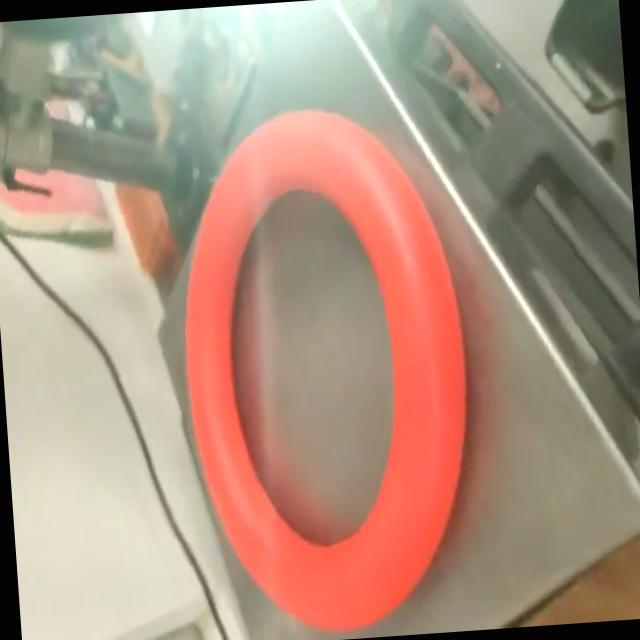note: (162, 92, 489, 640)
